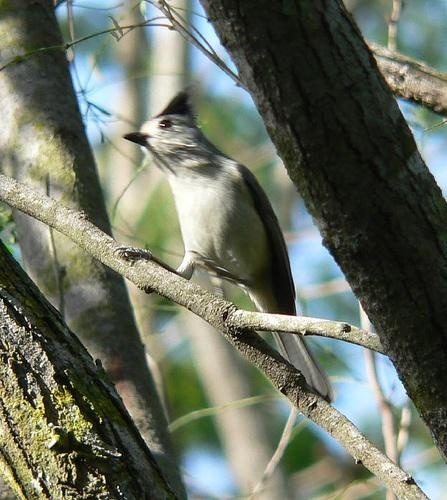bird: (124, 89, 334, 404)
